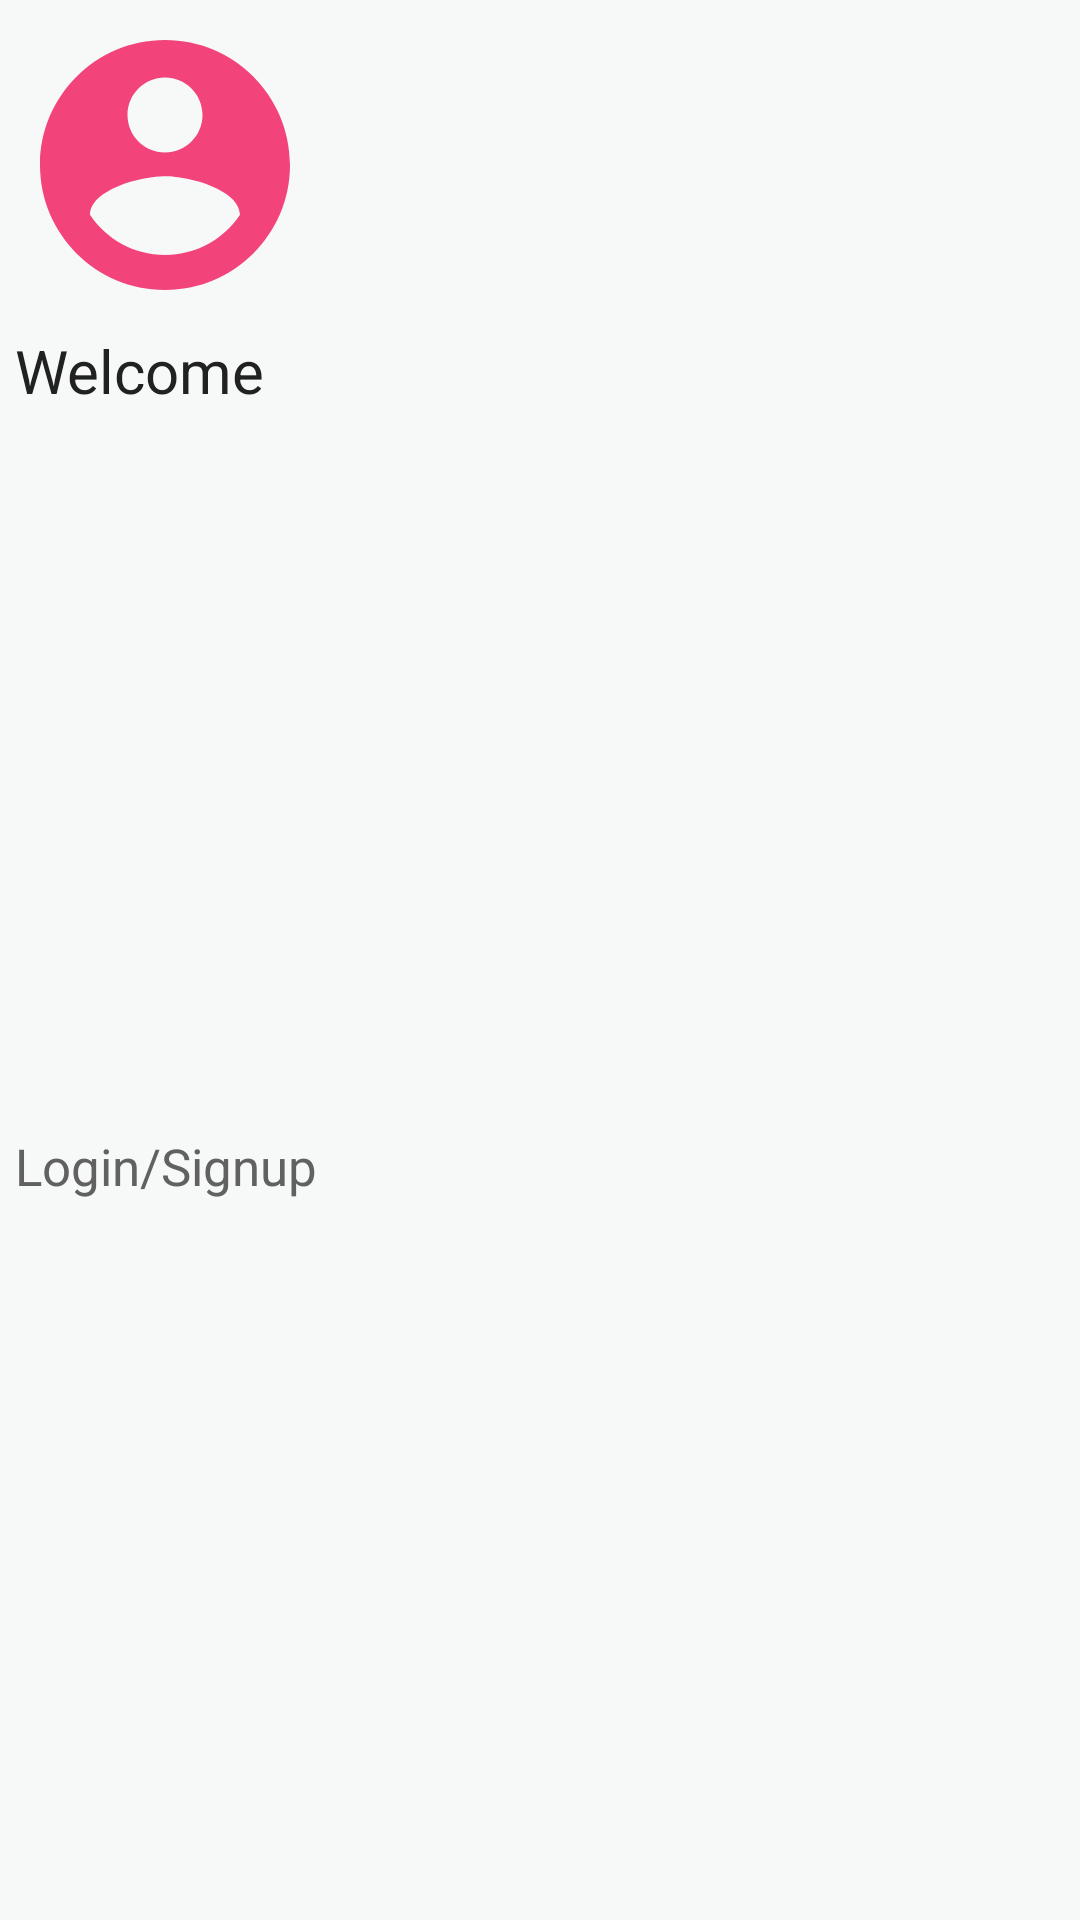

Named icons in this screenshot (1080px×1920px) and their centers, point (x, y):
account circle: point (165, 165)
